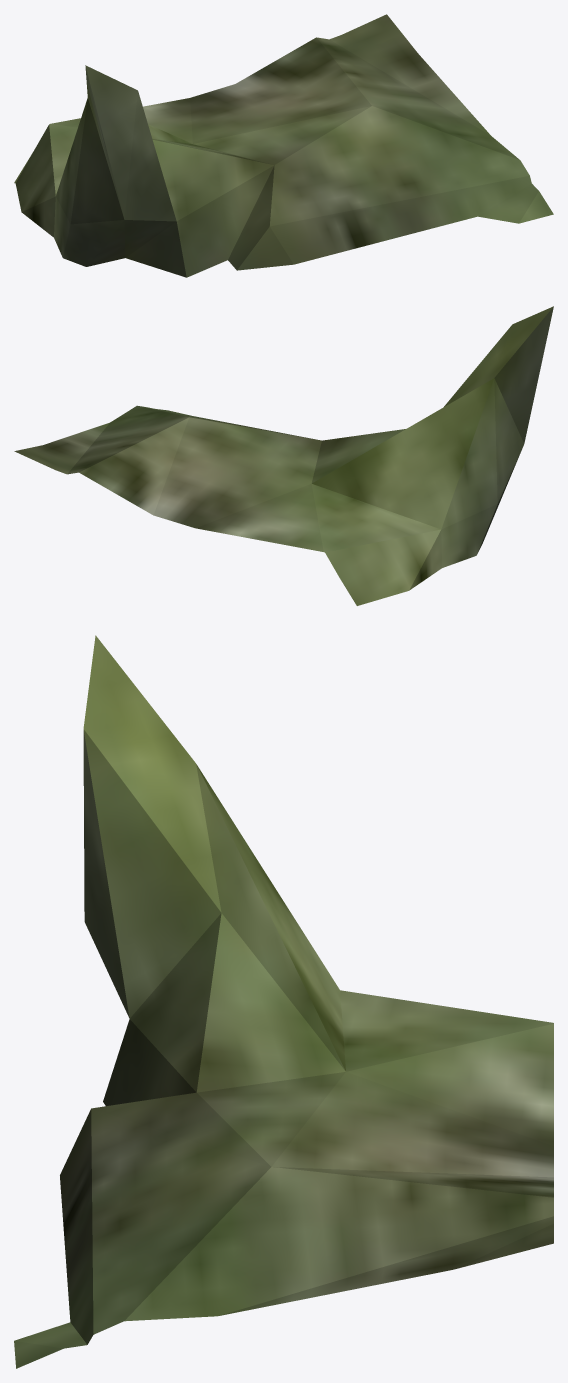
3 renders of one model, top to bottom at view 1: azimuth 30°, elevation 25°; view 2: azimuth 150°, elevation 25°; view 3: azimuth 270°, elevation 25°, orthographic. The views are drawn at different scales.
Bounding box in the file's own units: 0.5042 × 0.26 × 0.3302.
Materials: 1 (1 with a texture image).
